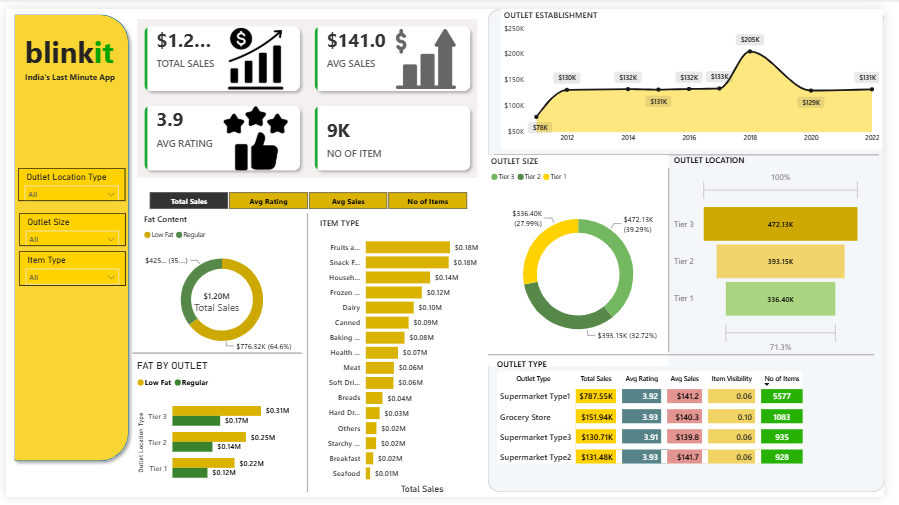

The dashboard page shown, as its layout file describes it:
{"tool":"powerbi","page":{"name":"Page 1","canvas":[1440,800],"ordinal":0},"visuals":[{"type":"shape","box":[4.6,0,205.3,750.3],"z":0},{"type":"textbox","box":[433.8,0,205.3,750.3],"z":1000},{"type":"textbox","box":[26.2,30.9,183.7,105],"z":2000},{"type":"textbox","box":[1088.3,333.4,335,416.8],"z":3000},{"type":"textbox","box":[26.2,97.3,183.7,60.2],"z":4000},{"type":"cardVisual","fields":{"Data":["BlinkIT Grocery Data.Total Sales","BlinkIT Grocery Data.Avg Sales","BlinkIT Grocery Data.Avg Rating","BlinkIT Grocery Data.No of Items"]},"box":[209.9,10.8,569.6,270.2],"z":5000},{"type":"shape","box":[790.6,0,649.7,792.2],"z":6000},{"type":"donutChart","title":" Fat Content","fields":{"Y":["BlinkIT Grocery Data.Total Sales"],"Category":["BlinkIT Grocery Data.Item Fat Content"]},"box":[221.2,333.8,265.4,239.9],"z":7000},{"type":"slicer","fields":{"Values":["Metrics.Metrics"]},"box":[209.9,292.7,570,41.4],"z":8000},{"type":"cardVisual","fields":{"Data":["BlinkIT Grocery Data.Total Sales"]},"box":[280.8,435.6,130.5,88],"z":9000},{"type":"clusteredBarChart","title":"FAT BY OUTLET","fields":{"Y":["BlinkIT Grocery Data.Total Sales"],"Category":["BlinkIT Grocery Data.Outlet Location Type"],"Series":["BlinkIT Grocery Data.Item Fat Content"]},"box":[209.1,573.7,260.1,218.5],"z":10000},{"type":"shape","box":[210.5,553.6,277.5,20.1],"z":11000},{"type":"shape","box":[206.4,553.6,277.5,20.1],"z":12000},{"type":"shape","box":[412.9,333.8,162.2,458.4],"z":13000},{"type":"barChart","title":"ITEM TYPE","fields":{"Y":["BlinkIT Grocery Data.Total Sales"],"Category":["BlinkIT Grocery Data.Item Type"]},"box":[510.2,341.7,269.7,458.1],"z":14000},{"type":"lineChart","title":"OUTLET ESTABLISHMENT","fields":{"Category":["BlinkIT Grocery Data.Outlet Establishment Year"],"Y":["BlinkIT Grocery Data.Total Sales"]},"box":[812.1,0,625.2,229.8],"z":15000},{"type":"shape","box":[799.8,222.2,631.3,32.2],"z":16000},{"type":"donutChart","title":" OUTLET SIZE","fields":{"Y":["BlinkIT Grocery Data.Total Sales"],"Category":["BlinkIT Grocery Data.Outlet Location Type"]},"box":[790.6,239,295.7,346.3],"z":17000},{"type":"funnel","title":"OUTLET LOCATION","fields":{"Category":["BlinkIT Grocery Data.Outlet Location Type"],"Y":["Sum(BlinkIT Grocery Data.Sales)"]},"box":[1089.4,237.5,315.6,334],"z":18000},{"type":"shape","box":[790.6,547,632.8,38.3],"z":19000},{"type":"shape","box":[1064.9,260.5,41.4,301.9],"z":20000},{"type":"pivotTable","title":"OUTLET TYPE","fields":{"Rows":["BlinkIT Grocery Data.Outlet Type"],"Values":["BlinkIT Grocery Data.Total Sales","BlinkIT Grocery Data.Avg Rating","BlinkIT Grocery Data.Avg Sales","Avg(BlinkIT Grocery Data.Item Visibility)","BlinkIT Grocery Data.No of Items"]},"box":[799.8,571.5,641,229],"z":21000},{"type":"slicer","fields":{"Values":["BlinkIT Grocery Data.Outlet Location Type"]},"box":[19.9,260.5,176,54],"z":22000},{"type":"slicer","fields":{"Values":["BlinkIT Grocery Data.Outlet Size"]},"box":[21.5,334,174.7,53.6],"z":23000},{"type":"slicer","fields":{"Values":["BlinkIT Grocery Data.Item Type"]},"box":[21.5,396.9,174.7,56.7],"z":24000}]}

Visuals, with their boxes in screenshot pixels (x1, y1, x2, y2), scaled from the page's 1440x800 canvas onto the 899x505 screenshot:
shape: [3, 0, 131, 474]
textbox: [271, 0, 399, 474]
textbox: [16, 20, 131, 86]
textbox: [679, 210, 889, 474]
textbox: [16, 61, 131, 99]
cardVisual - BlinkIT Grocery Data.Total Sales x BlinkIT Grocery Data.Avg Sales: [131, 7, 487, 177]
shape: [494, 0, 898, 500]
" Fat Content" donutChart: [138, 211, 304, 362]
slicer - Metrics.Metrics: [131, 185, 487, 211]
cardVisual - BlinkIT Grocery Data.Total Sales: [175, 275, 257, 331]
"FAT BY OUTLET" clusteredBarChart: [131, 362, 293, 500]
shape: [131, 349, 305, 362]
shape: [129, 349, 302, 362]
shape: [258, 211, 359, 500]
"ITEM TYPE" barChart: [319, 216, 487, 504]
"OUTLET ESTABLISHMENT" lineChart: [507, 0, 897, 145]
shape: [499, 140, 893, 161]
" OUTLET SIZE" donutChart: [494, 151, 678, 369]
"OUTLET LOCATION" funnel: [680, 150, 877, 361]
shape: [494, 345, 889, 369]
shape: [665, 164, 691, 355]
"OUTLET TYPE" pivotTable: [499, 361, 898, 504]
slicer - BlinkIT Grocery Data.Outlet Location Type: [12, 164, 122, 199]
slicer - BlinkIT Grocery Data.Outlet Size: [13, 211, 122, 245]
slicer - BlinkIT Grocery Data.Item Type: [13, 251, 122, 286]
